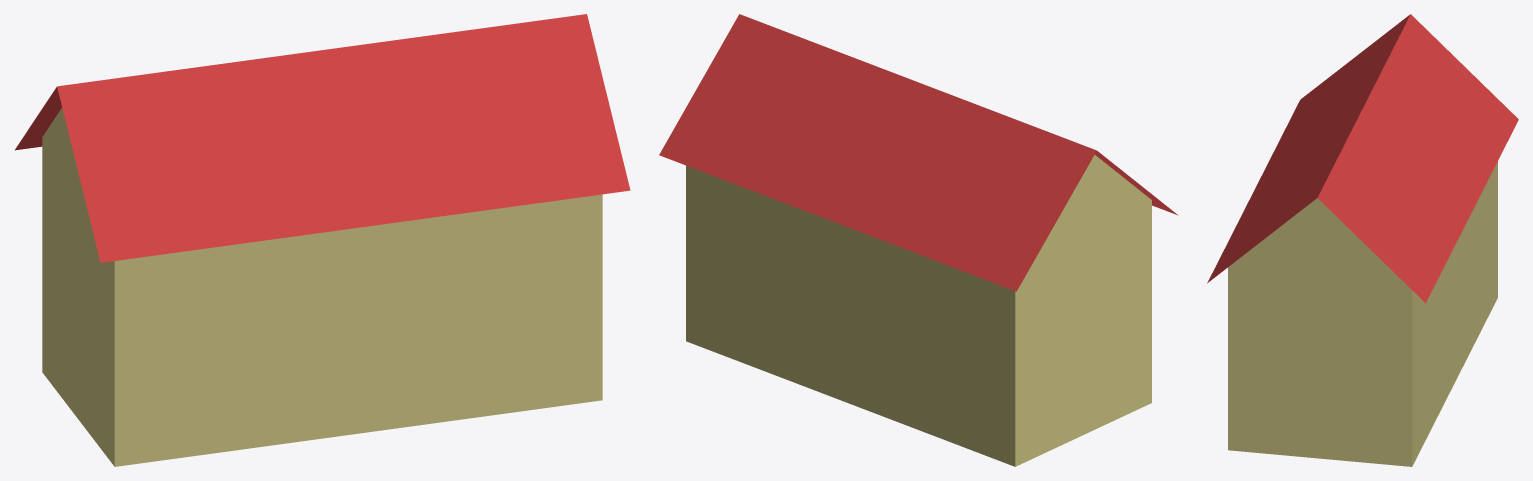
3 views of the same model, side by side, from view 1: azimuth 30°, elevation 25°; view 2: azimuth 150°, elevation 25°; view 3: azimuth 270°, elevation 25° (orthographic). The views are drawn at different scales.
Size of the model in its own units: 27.39 by 17.72 by 16.8.
